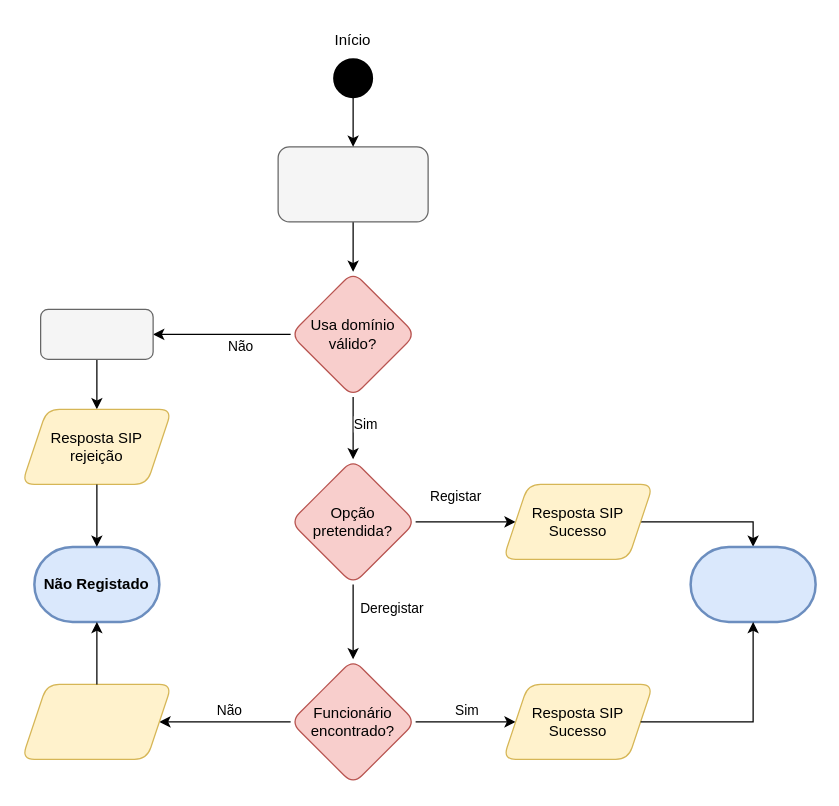
This 839x806 diagram has some shape labels left out. The shapes that lost their labels are listed below. From the top down, each one's centre as x and y in pixels, then its label:
At point (352, 184): "Registar alteração de estado e localização".
At point (96, 333): "Rejeitar".
At point (752, 583): "Registado".
At point (96, 721): "Resposta SIP não encontrado".
